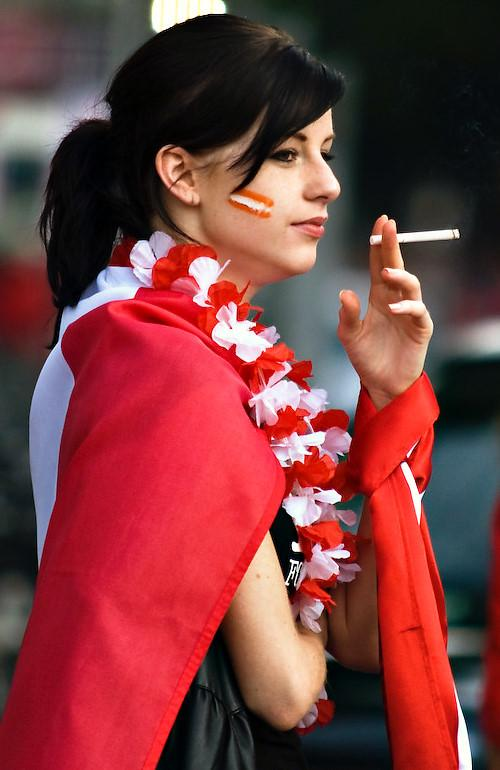person: (23, 15, 432, 770)
